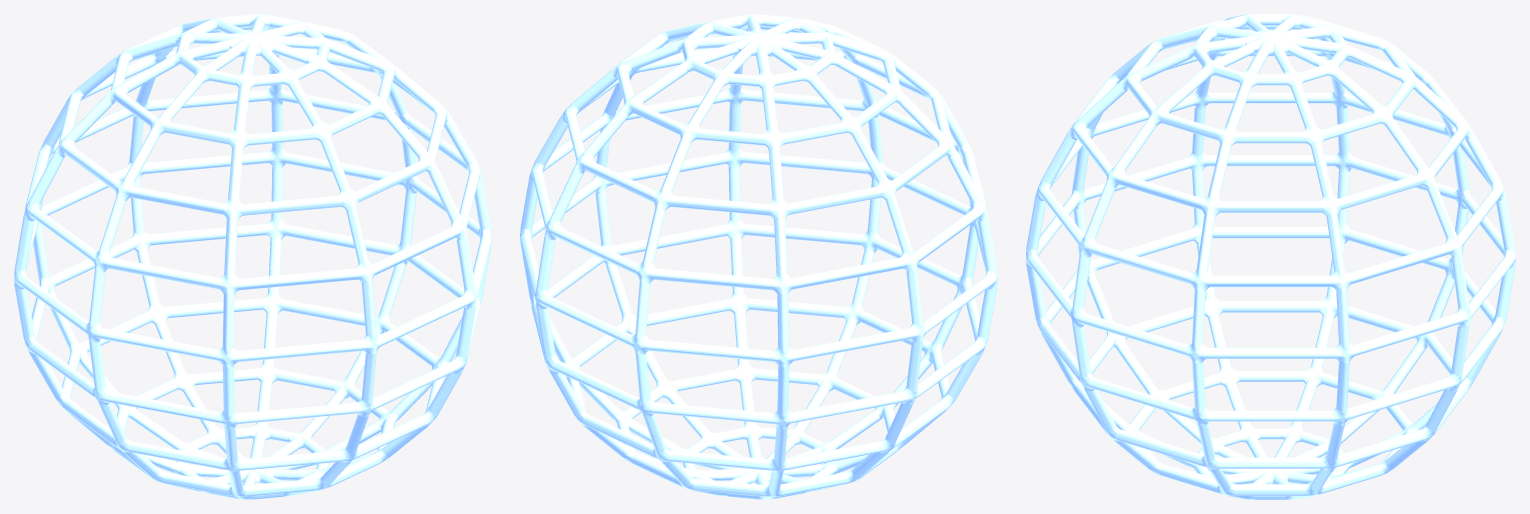
File: custom-3d-web-icon.glb
3 views of the same model, side by side, from view 1: azimuth 30°, elevation 25°; view 2: azimuth 150°, elevation 25°; view 3: azimuth 270°, elevation 25° (orthographic).
Parts seen in each view (by area): view 1: Sphere; view 2: Sphere; view 3: Sphere.
Boxes of the visible parts, bbox=[...] form: Sphere: bbox=[14, 14, 491, 499]; Sphere: bbox=[520, 14, 997, 499]; Sphere: bbox=[1026, 14, 1515, 499].
Size of the model in its own units: 1.95 by 2.03 by 2.04.
